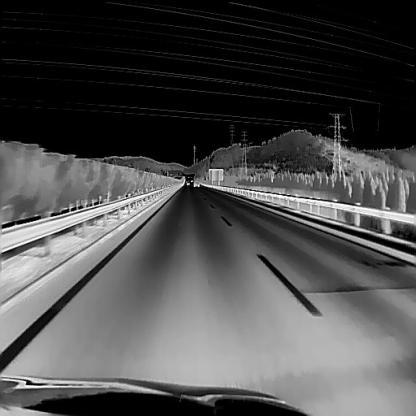car: (192, 174, 199, 186)
